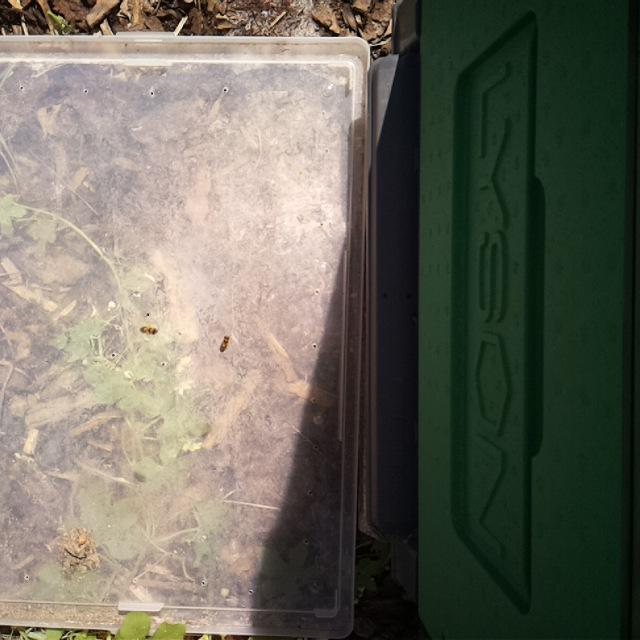worker-bee: (139, 322, 158, 337), (218, 334, 230, 357)
